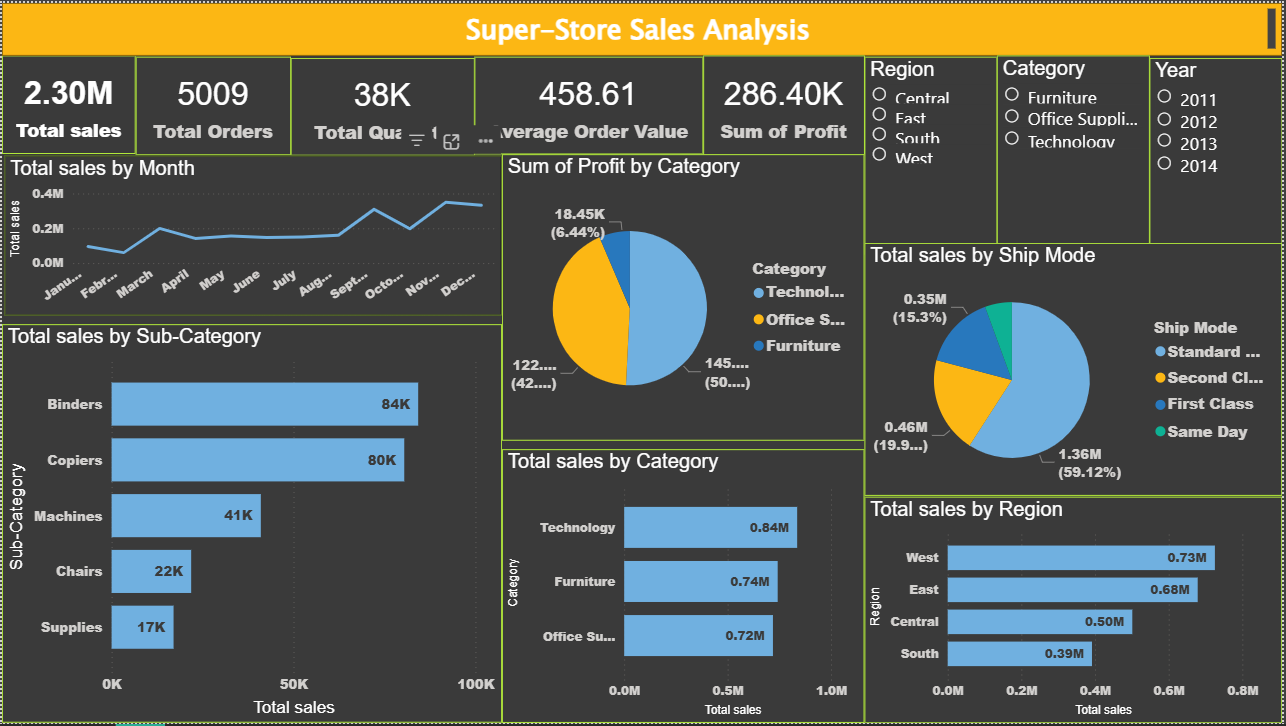

What the dashboard file says about the page in this screenshot:
{"tool":"powerbi","page":{"name":"Page 1","canvas":[1280,720],"ordinal":0},"visuals":[{"type":"card","fields":{"Values":["Orders.Total sales"]},"box":[0,61.4,134.3,98.6],"z":0},{"type":"card","fields":{"Values":["Orders.Total Orders"]},"box":[134.3,61.4,118.6,98.6],"z":1000},{"type":"card","fields":{"Values":["Orders.Total Quantity"]},"box":[252.9,62.9,128.6,97.1],"z":2000},{"type":"card","fields":{"Values":["Orders.Average Order Value"]},"box":[381.4,62.9,165.7,97.1],"z":3000},{"type":"textbox","box":[0,0,1280,61.2],"z":4000},{"type":"lineChart","fields":{"Category":["Orders.Order Date.Variation.Date Hierarchy.Month"],"Y":["Orders.Total sales"]},"box":[2.5,160,497.5,160],"z":5000},{"type":"clusteredBarChart","fields":{"Y":["Orders.Total sales"],"Category":["Orders.Product Name"]},"box":[0,320,500,398.8],"z":6000},{"type":"clusteredBarChart","fields":{"Y":["Orders.Total sales"],"Category":["Orders.Category"]},"box":[500,446.2,362.5,273.8],"z":7000},{"type":"clusteredBarChart","fields":{"Category":["Orders.Region"],"Y":["Orders.Total sales"]},"box":[862.5,493.8,417.5,226.2],"z":8000},{"type":"listSlicer","fields":{"Values":["Orders.Order Date.Variation.Date Hierarchy.Year"]},"box":[1147.5,61.2,132.5,216.2],"z":9000},{"type":"listSlicer","fields":{"Values":["Orders.Category"]},"box":[995,62.5,152.5,216.2],"z":10000},{"type":"listSlicer","fields":{"Values":["Orders.Region"]},"box":[862.5,61.2,132.5,218.8],"z":11000},{"type":"pieChart","fields":{"Category":["Orders.Ship Mode"],"Y":["Orders.Total sales"]},"box":[862.5,240,417.5,252.5],"z":12000},{"type":"card","fields":{"Values":["Sum(Orders.Profit)"]},"box":[547.1,61.4,150,100],"z":13000},{"type":"pieChart","fields":{"Y":["Sum(Orders.Profit)"],"Category":["Orders.Category"]},"box":[500,160,362.5,286.2],"z":14000}]}

Visuals, with their boxes in screenshot pixels (x1, y1, x2, y2), scaled from the page's 1280x720 canvas onto the 1286x726 screenshot:
card - Orders.Total sales: x1=0 y1=62 x2=135 y2=161
card - Orders.Total Orders: x1=135 y1=62 x2=254 y2=161
card - Orders.Total Quantity: x1=254 y1=63 x2=383 y2=161
card - Orders.Average Order Value: x1=383 y1=63 x2=550 y2=161
textbox: x1=0 y1=0 x2=1285 y2=62
lineChart - Orders.Order Date.Variation.Date Hierarchy.Month x Orders.Total sales: x1=3 y1=161 x2=502 y2=323
clusteredBarChart - Orders.Total sales x Orders.Product Name: x1=0 y1=323 x2=502 y2=725
clusteredBarChart - Orders.Total sales x Orders.Category: x1=502 y1=450 x2=867 y2=725
clusteredBarChart - Orders.Region x Orders.Total sales: x1=867 y1=498 x2=1285 y2=725
listSlicer - Orders.Order Date.Variation.Date Hierarchy.Year: x1=1153 y1=62 x2=1285 y2=280
listSlicer - Orders.Category: x1=1000 y1=63 x2=1153 y2=281
listSlicer - Orders.Region: x1=867 y1=62 x2=1000 y2=282
pieChart - Orders.Ship Mode x Orders.Total sales: x1=867 y1=242 x2=1285 y2=497
card - Sum(Orders.Profit): x1=550 y1=62 x2=700 y2=163
pieChart - Sum(Orders.Profit) x Orders.Category: x1=502 y1=161 x2=867 y2=450
